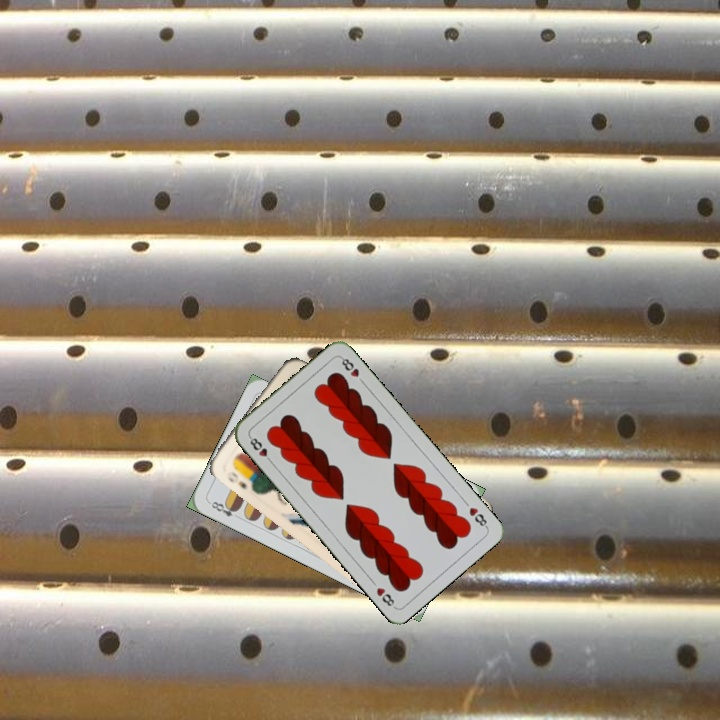E8: (205, 497, 241, 520)
EO: (223, 467, 250, 492)
H8: (245, 432, 276, 466), (465, 503, 490, 531)
